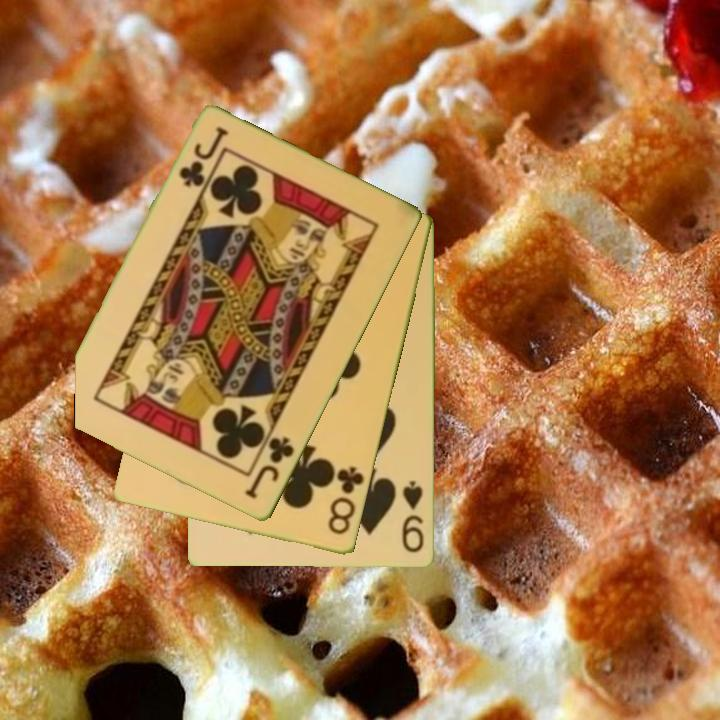8c: (325, 463, 368, 538)
9s: (399, 478, 427, 556)
Jc: (241, 433, 298, 503), (176, 123, 230, 191)
